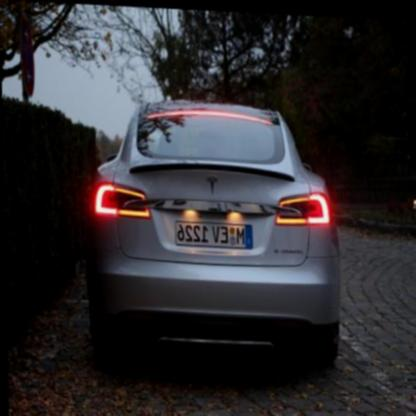License_Plate: (175, 221, 252, 249)
